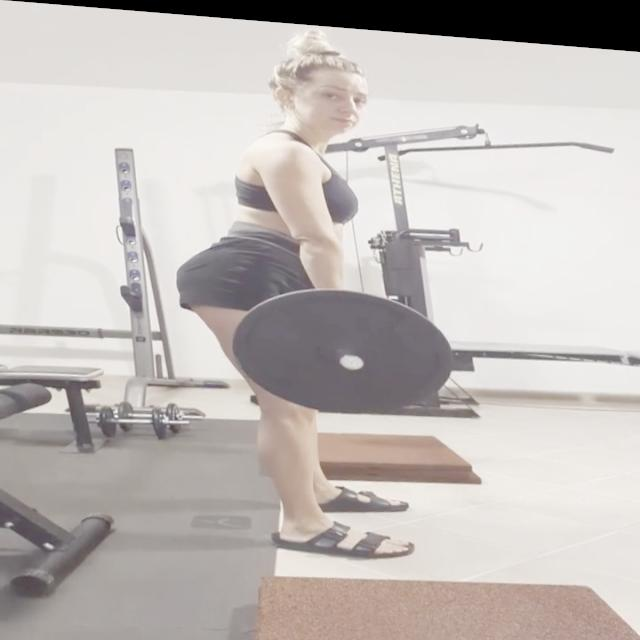barbell: (228, 273, 459, 419)
